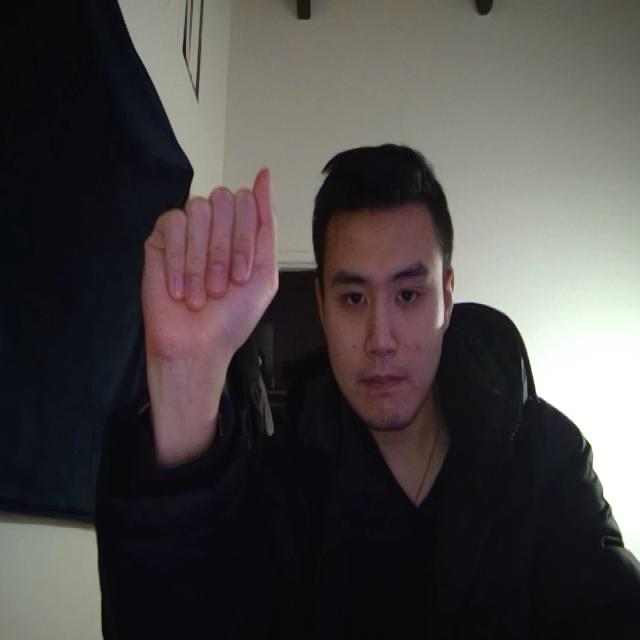A: (114, 142, 312, 468)
